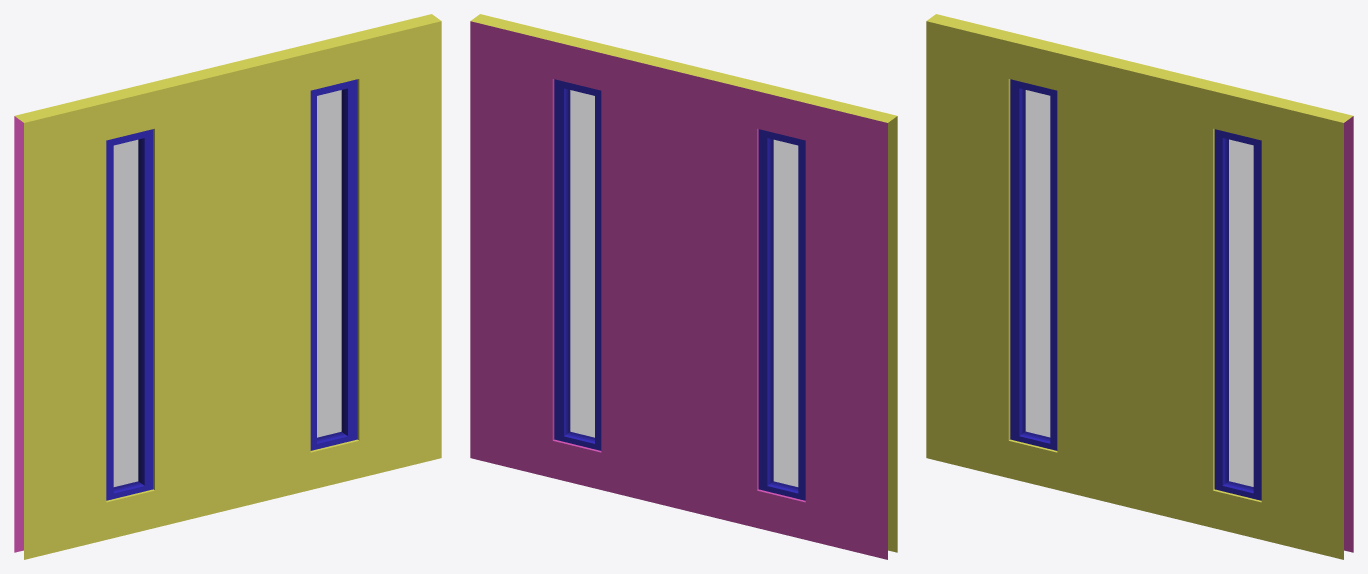
File: SM_wall8.fbx
The picture shows the model from 3 angles, left to right: view 1: azimuth 30°, elevation 25°; view 2: azimuth 150°, elevation 25°; view 3: azimuth 330°, elevation 25°; orthographic projection.
Visible parts, largest first — view 1: wall8; view 2: wall8; view 3: wall8.
Part boxes in pixels (left/top/right/bottom): wall8: left=14, top=14, right=441, bottom=559; wall8: left=470, top=14, right=897, bottom=559; wall8: left=926, top=14, right=1353, bottom=559.
Bounding box in the file's own units: 300 × 300 × 12.17.
